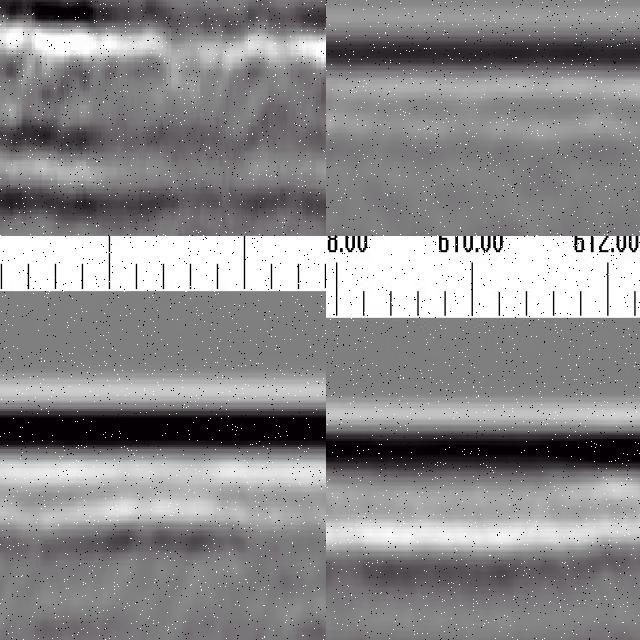loose: (1, 1, 101, 222)
